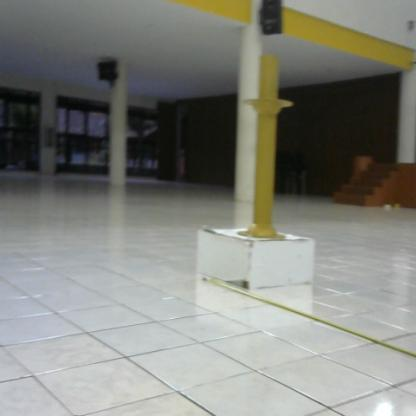pole: (239, 49, 298, 245)
